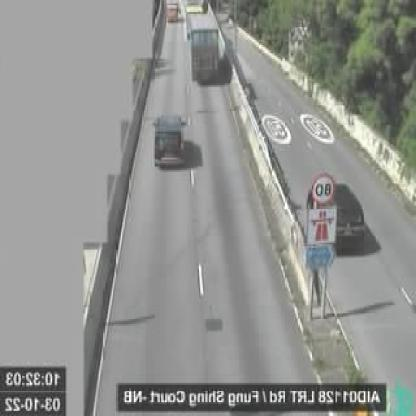Car: (309, 180, 364, 250), (154, 111, 188, 165)
Truck: (190, 12, 220, 83)
